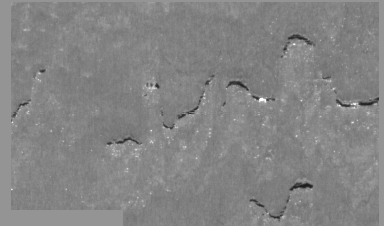oxl: (35, 10, 349, 216)
